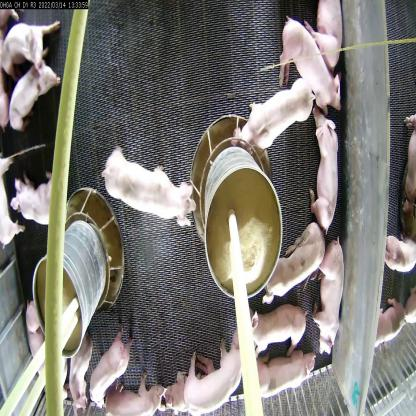Pig: (100, 141, 196, 240), (237, 74, 316, 160), (278, 14, 341, 116), (180, 324, 248, 412), (266, 220, 326, 300), (310, 234, 344, 357), (310, 113, 345, 231), (88, 326, 137, 409), (8, 59, 60, 136), (233, 304, 309, 356), (21, 299, 60, 391), (250, 354, 320, 405), (162, 362, 227, 414), (303, 1, 346, 70), (12, 167, 57, 229), (108, 370, 165, 415), (66, 339, 95, 416)
